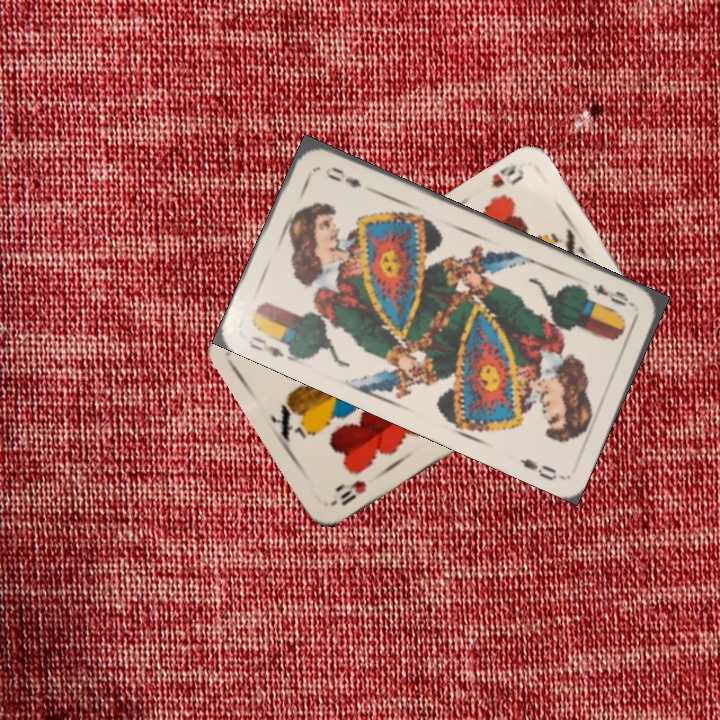EO: (244, 324, 298, 364), (588, 279, 638, 310)
H10: (486, 158, 527, 191), (336, 476, 370, 509)
